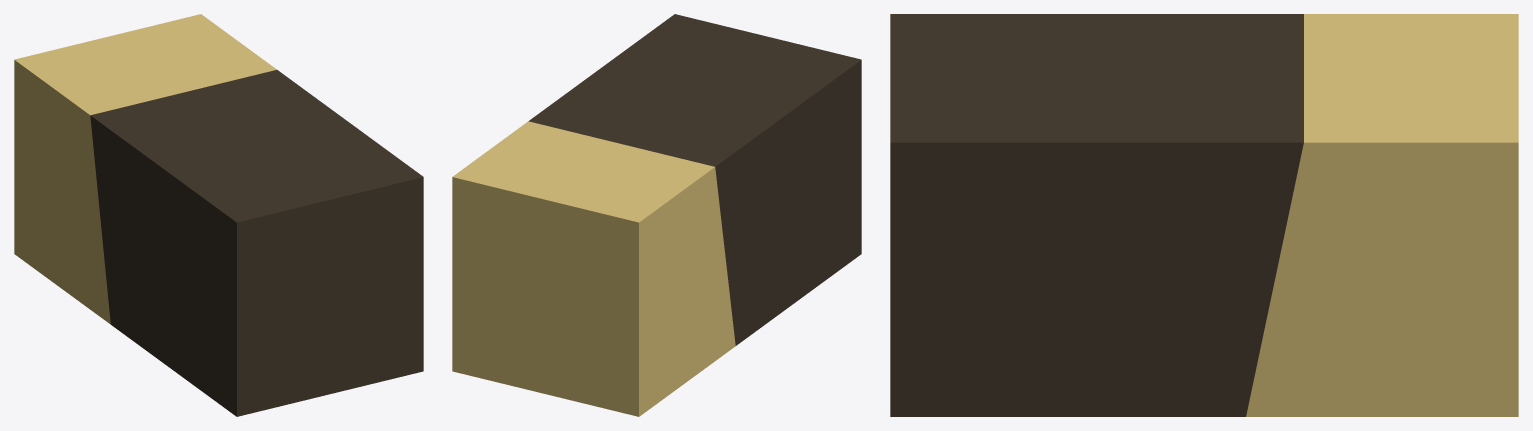
File: 반딫불이.fbx
3 renders of one model, left to right at view 1: azimuth 30°, elevation 25°; view 2: azimuth 150°, elevation 25°; view 3: azimuth 270°, elevation 25°, orthographic. The views are drawn at different scales.
Parts seen in each view (by area): view 1: Box001; view 2: Box001; view 3: Box001.
Part boxes in pixels (bbox=[...]): Box001: bbox=[14, 14, 423, 416]; Box001: bbox=[452, 14, 861, 416]; Box001: bbox=[890, 14, 1518, 416].
Size of the model in its own units: 32.86 by 32.65 by 67.81.
